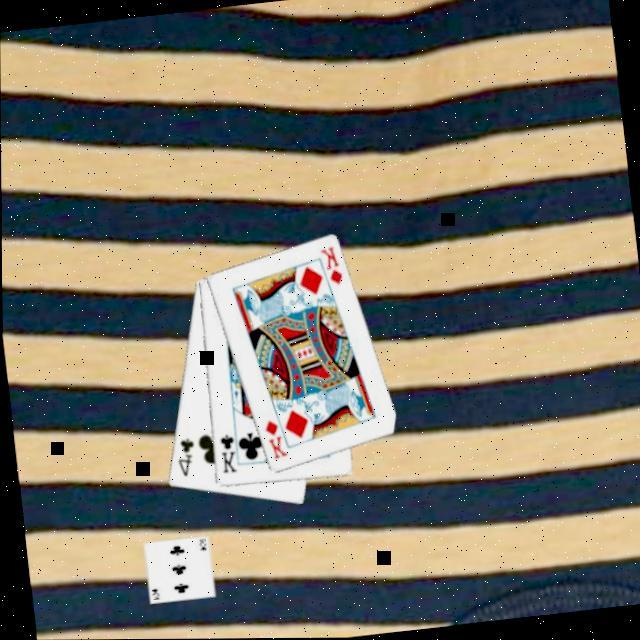4C: (170, 436, 198, 482)
KC: (212, 428, 242, 478)
KD: (258, 418, 288, 466), (316, 245, 346, 291)
